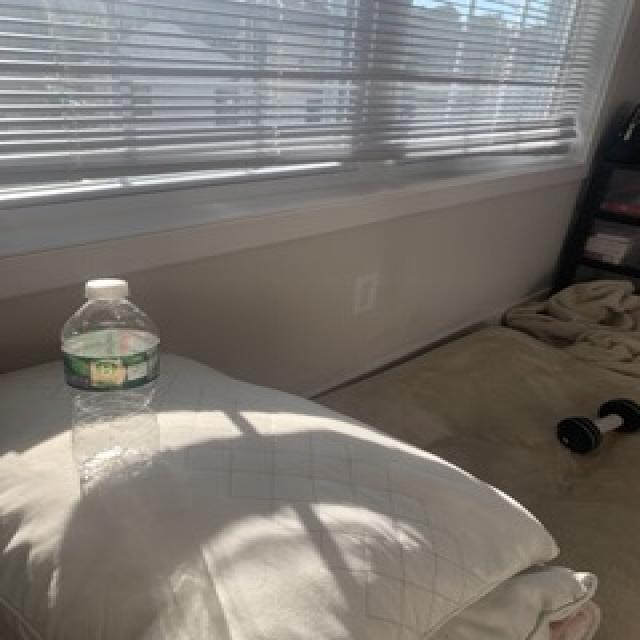water_bottle: (58, 275, 166, 491)
